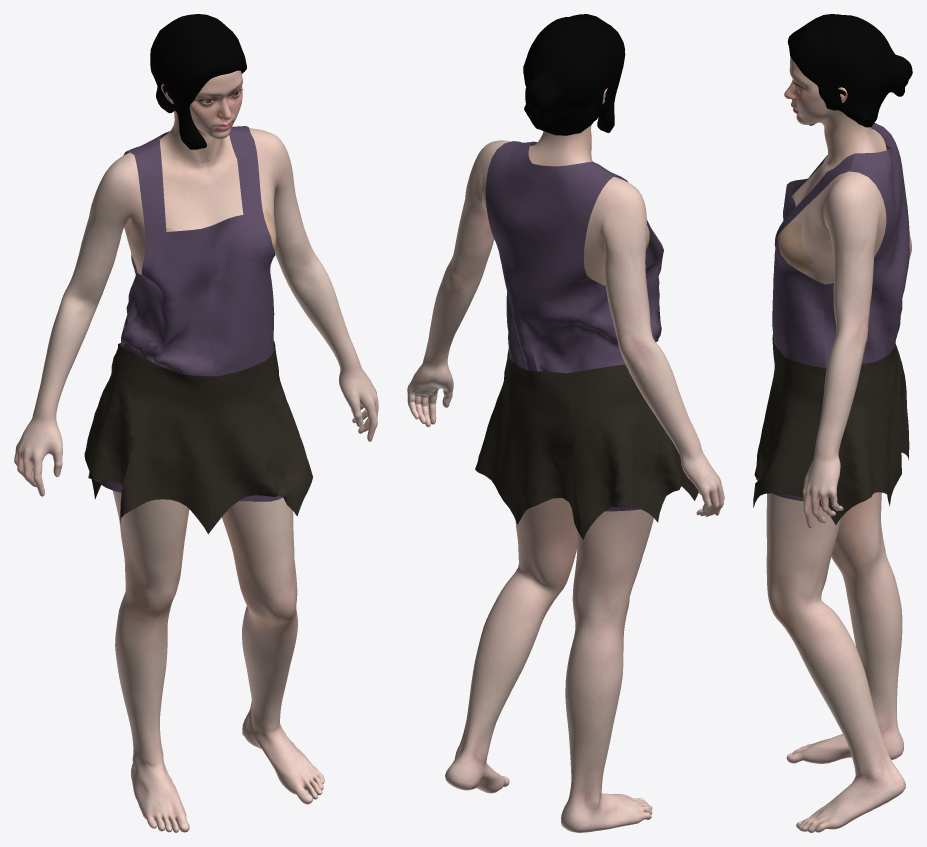
File: Dynamic_2.obj
3 views of the same model, side by side, from view 1: azimuth 30°, elevation 25°; view 2: azimuth 150°, elevation 25°; view 3: azimuth 270°, elevation 25° (orthographic). The views are drawn at different scales.
Bounding box in the file's own units: 775 × 1773 × 333.
